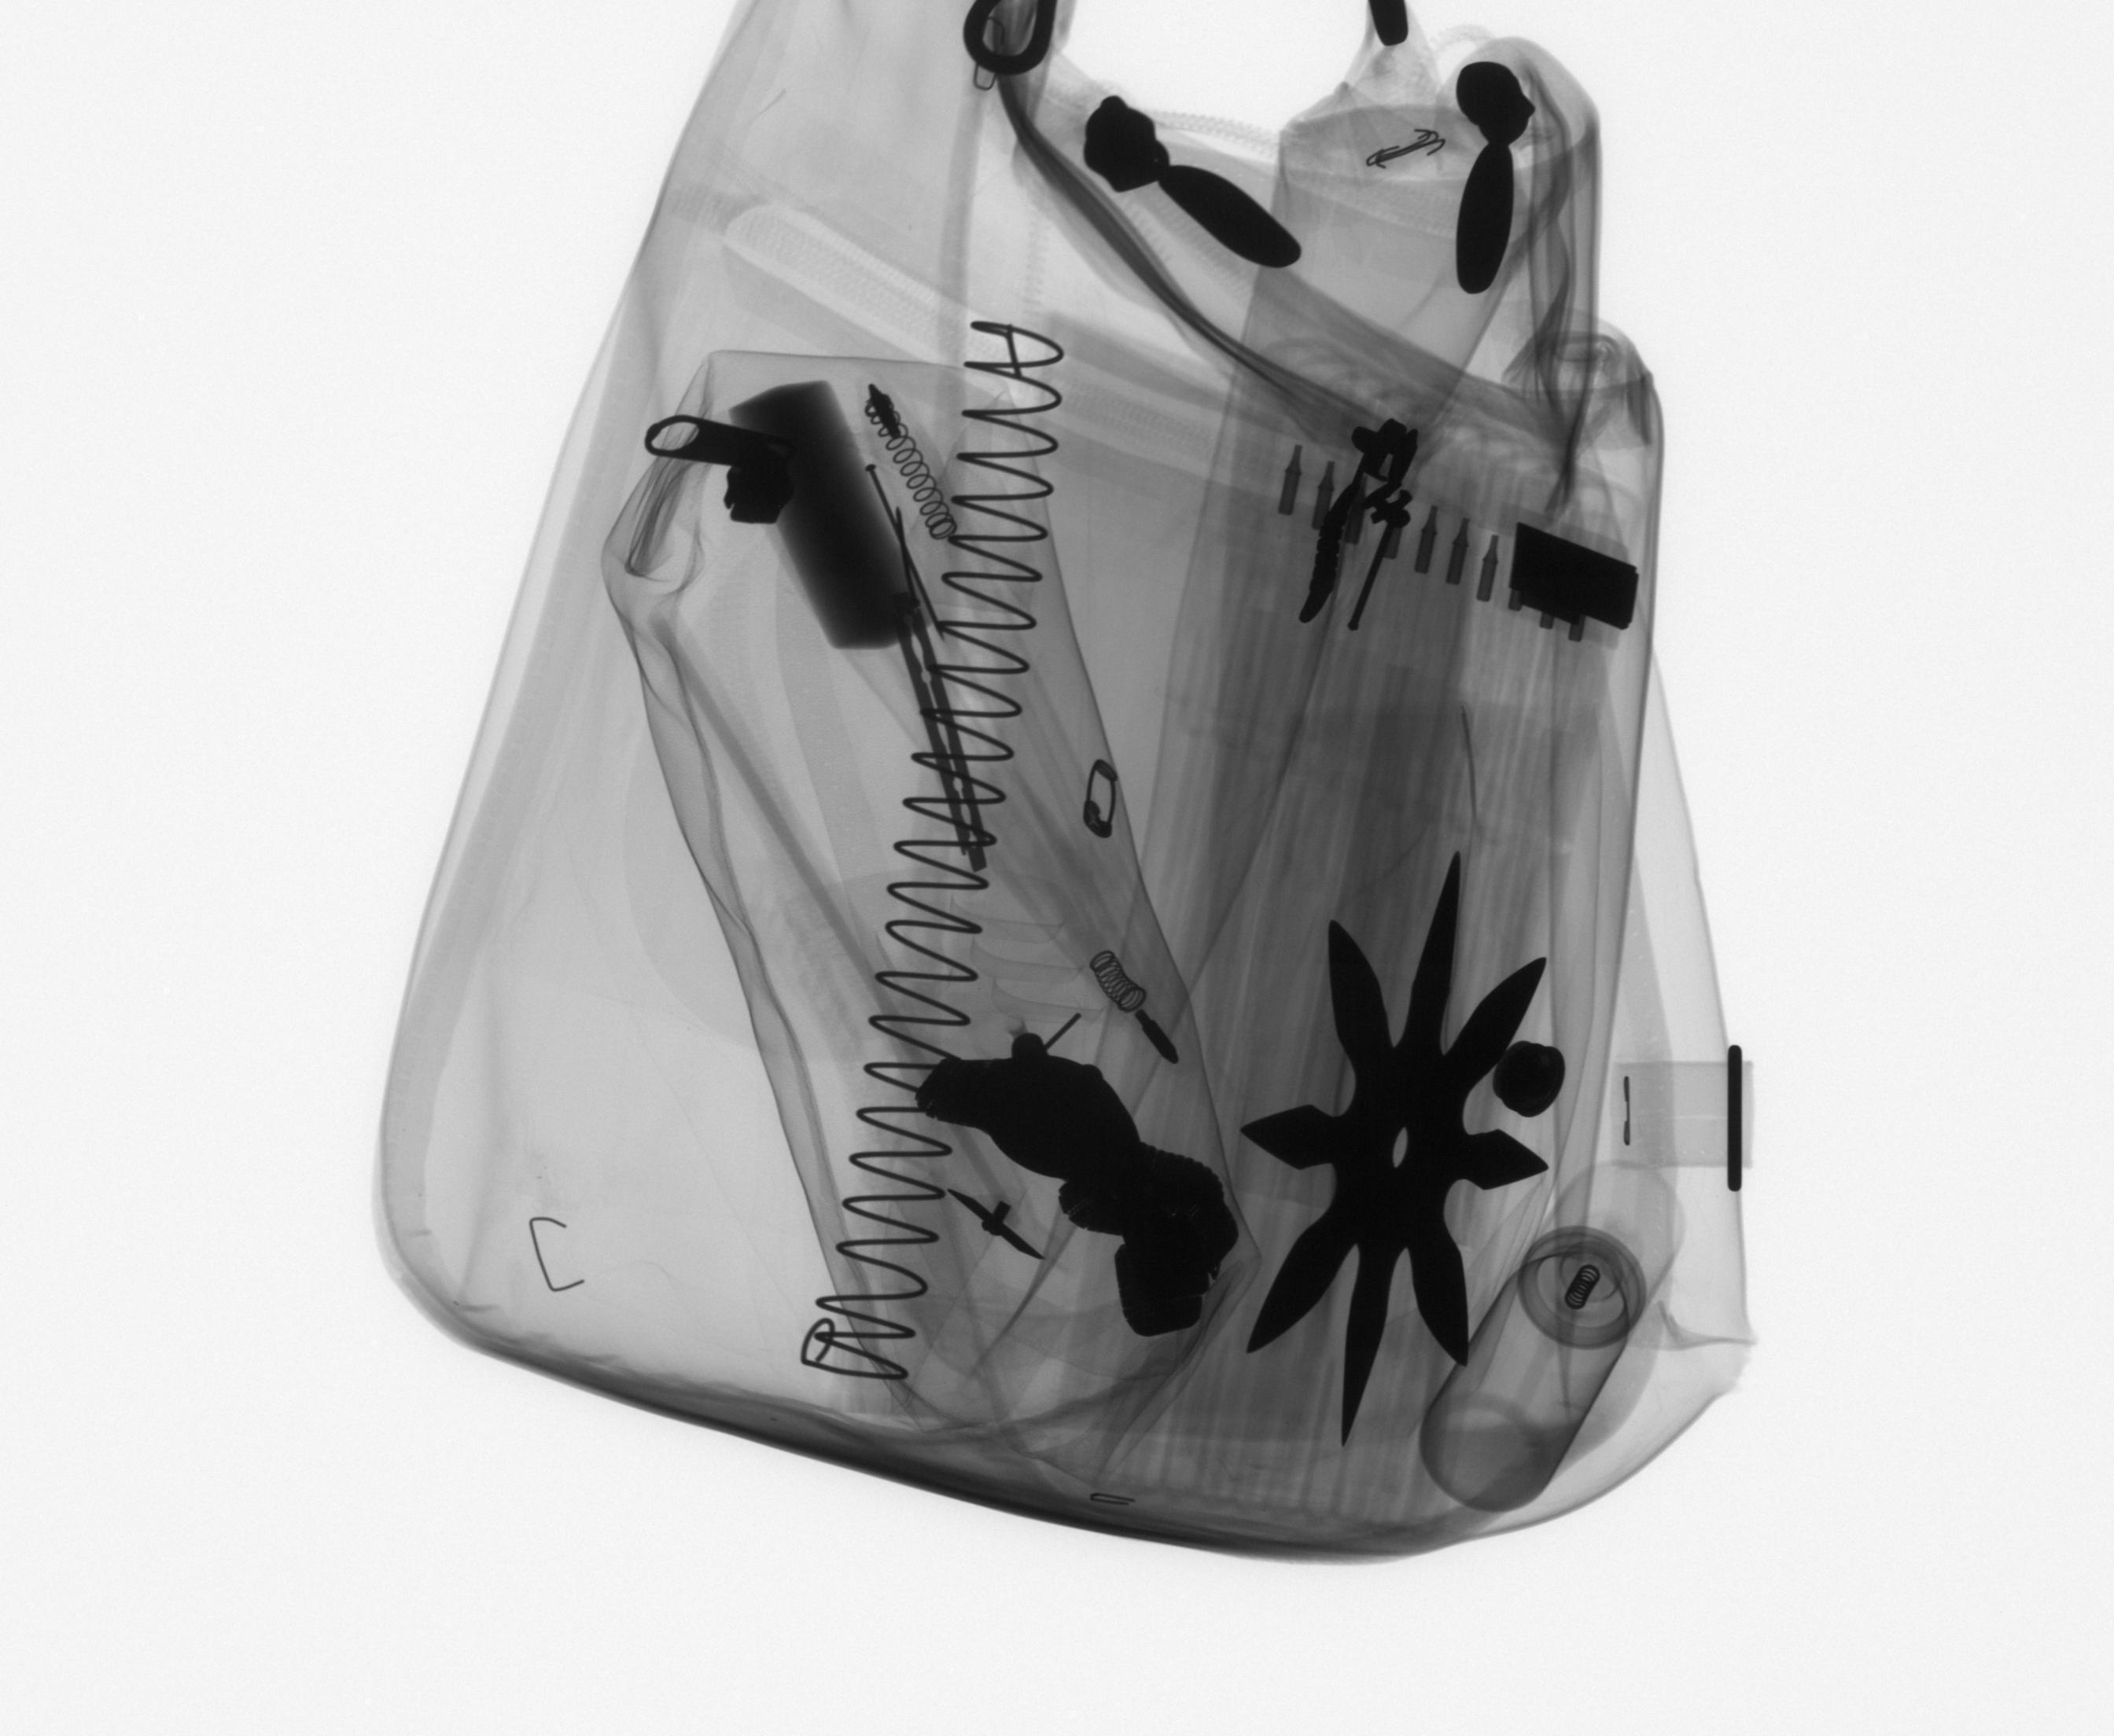RazorBlade: (883, 588, 1009, 879)
Shuriken: (1229, 843, 1561, 1455)
